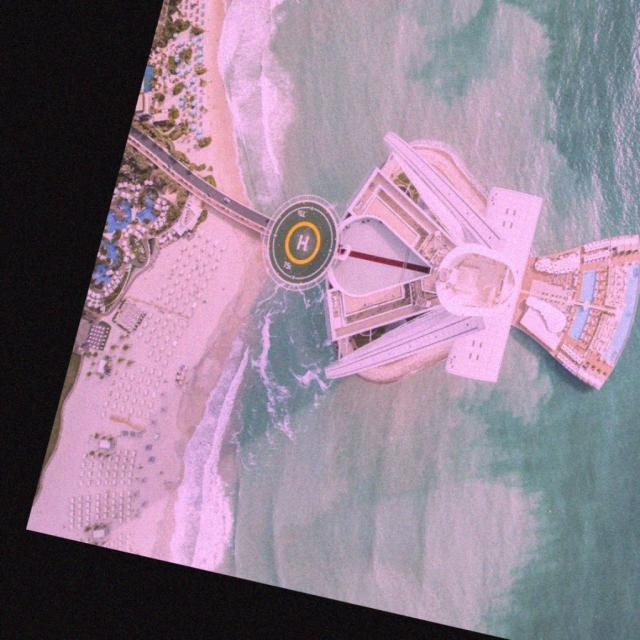helipad: (282, 218, 322, 266)
